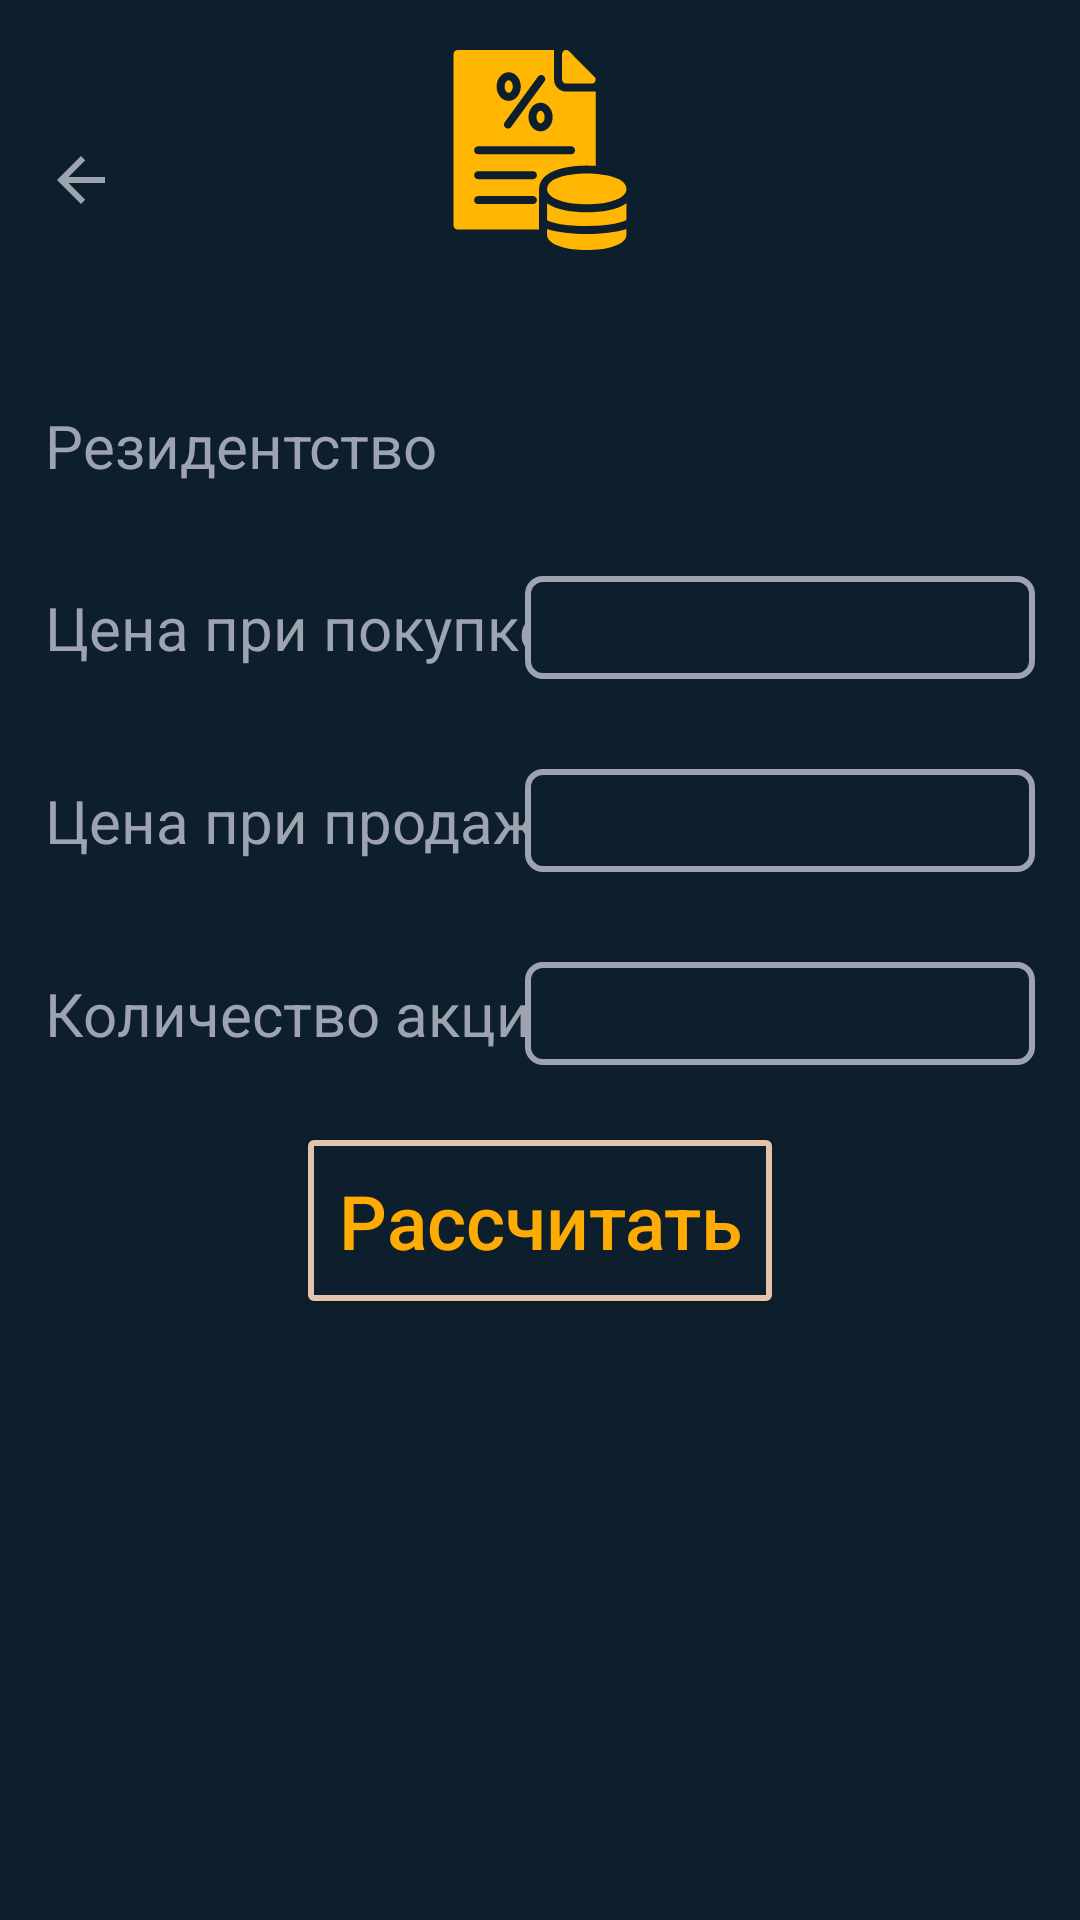

Icons on this 1080 x 1920 Android screen, each with its box as bbox(x1, y1, x2, y2):
arrow back hovered: bbox(57, 156, 105, 204)
obligation tax: bbox(453, 50, 627, 250)
